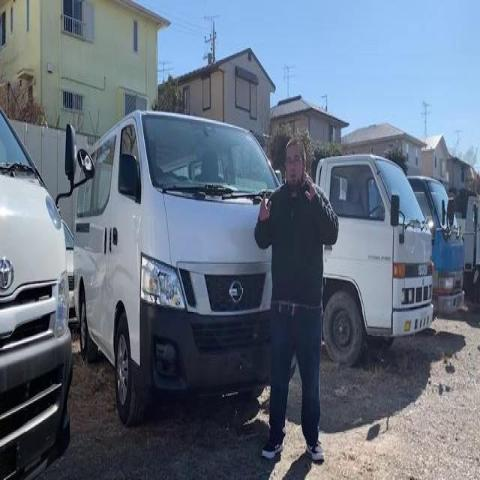van: (85, 108, 296, 411)
